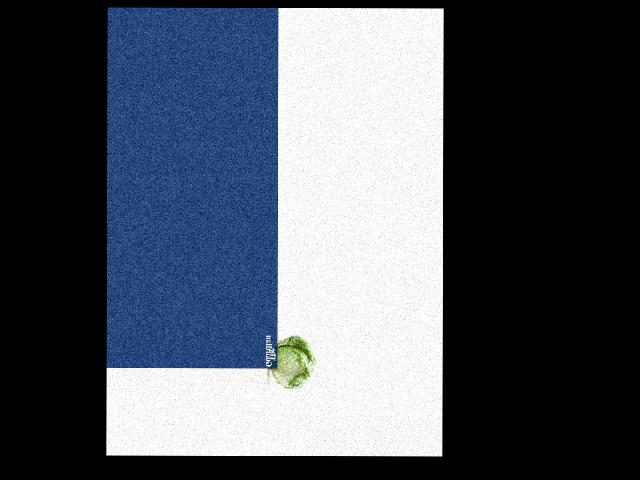lettuce: (271, 336, 318, 388)
